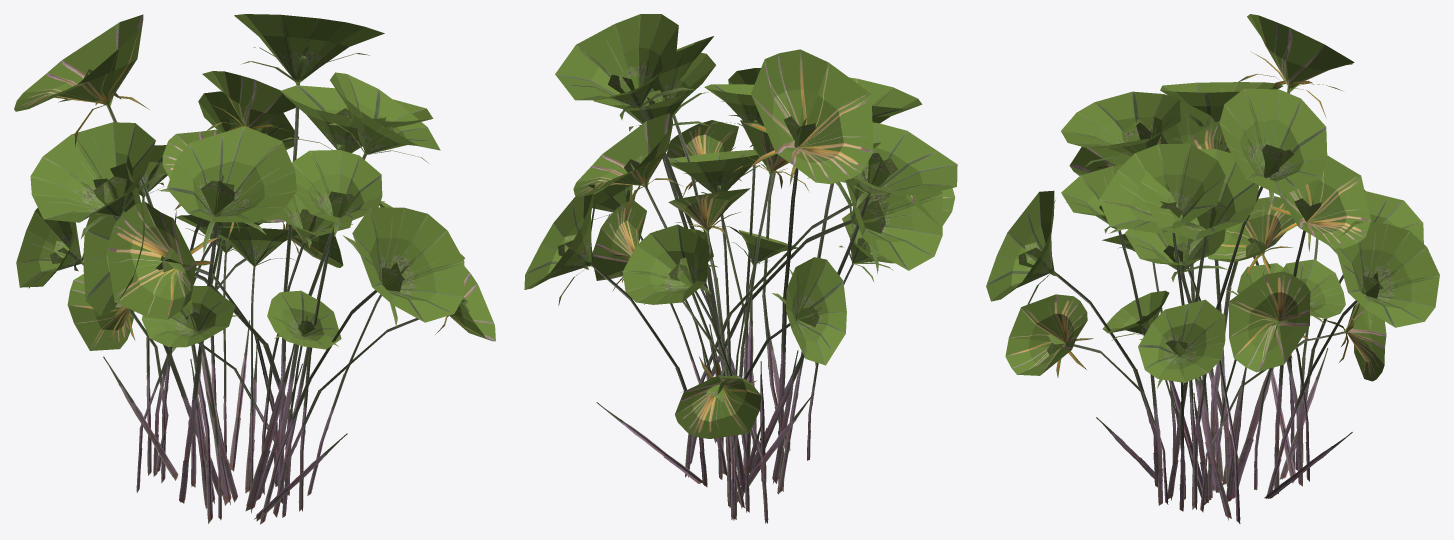
Rendered from Plant_papyrus002.fbx.
3 renders of one model, left to right at view 1: azimuth 30°, elevation 25°; view 2: azimuth 150°, elevation 25°; view 3: azimuth 270°, elevation 25°, orthographic. The views are drawn at different scales.
Visible parts, largest first — view 1: Plant_papyrus002; view 2: Plant_papyrus002; view 3: Plant_papyrus002.
Part boxes in pixels (left/top/right/bottom): Plant_papyrus002: left=14, top=14, right=495, bottom=524; Plant_papyrus002: left=524, top=14, right=957, bottom=523; Plant_papyrus002: left=986, top=14, right=1439, bottom=523.
Size of the model in its own units: 244 by 281 by 253.
